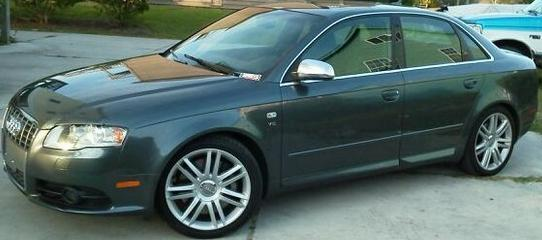front_view: (1, 92, 154, 220)
headlight: (42, 122, 133, 158)
side_glass: (288, 16, 488, 81)
